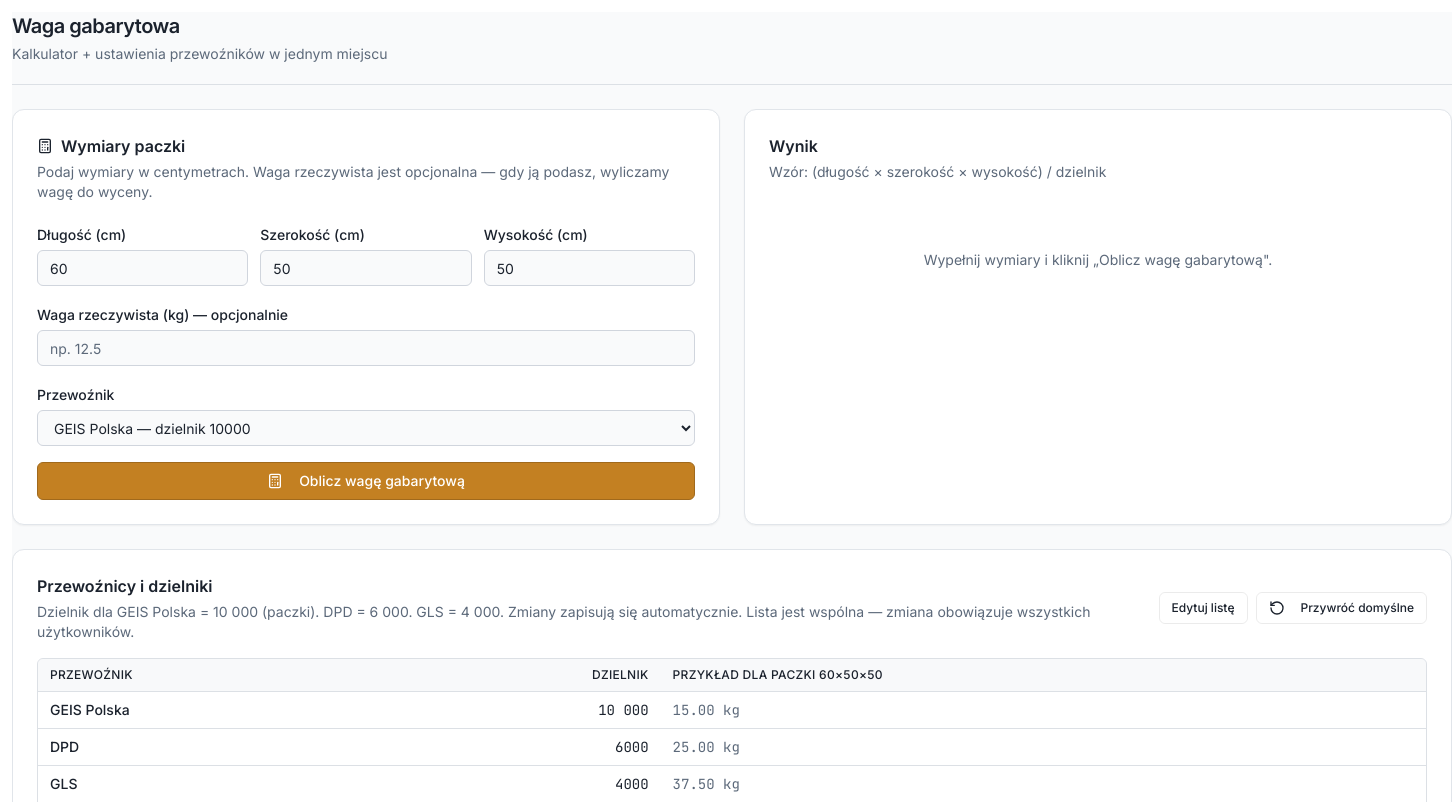
Test: widok wagi gabarytowej — kalkulator wolumetryczny › waga rzeczywista większa od gabarytowej wygrywa w wadze do wyceny
Expected: the button with test id "button-edycja-przewoznikow" is shown, [1158,592,1248,624]
In the number field with test id "input-waga-rzecz": (366, 348) [37,330,695,366], type "20"
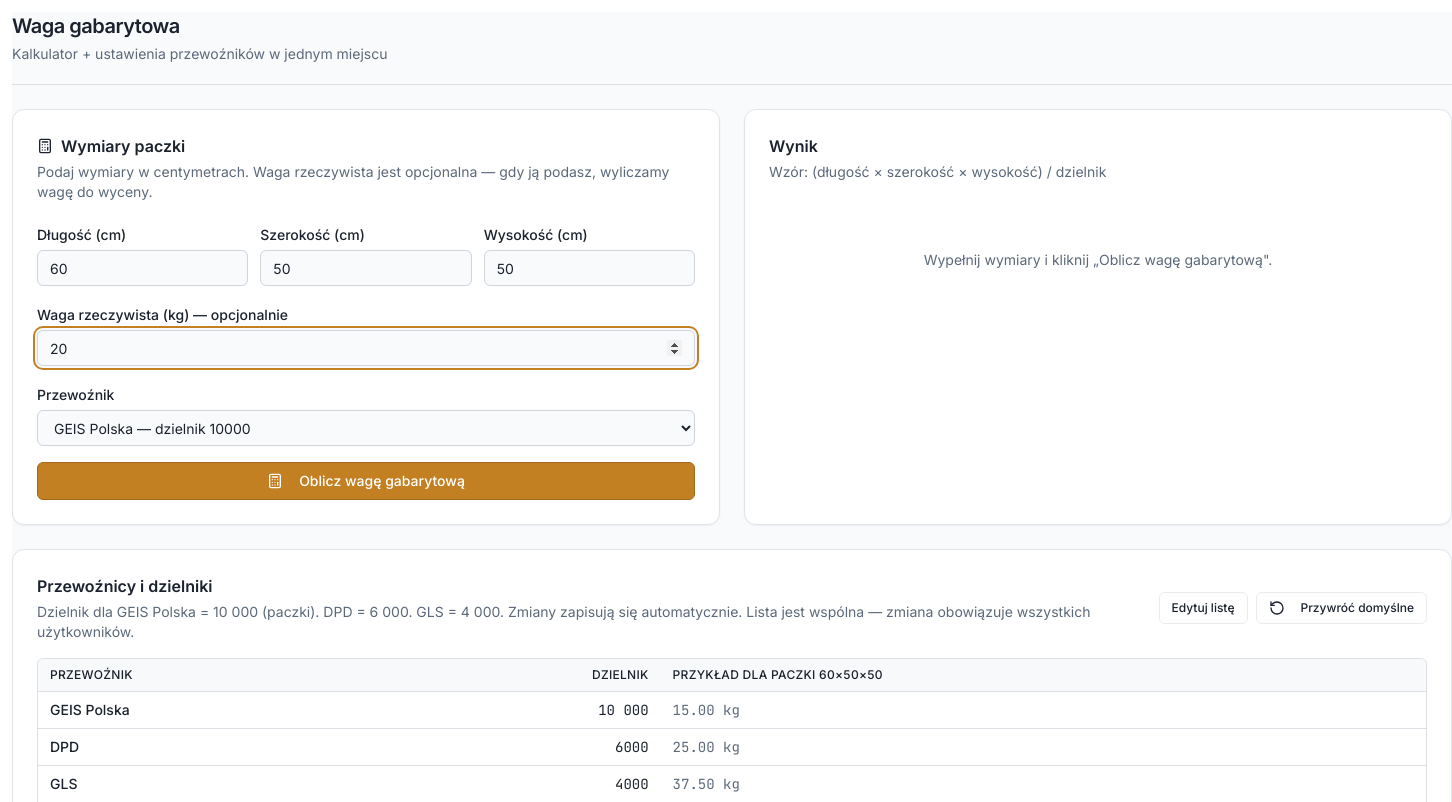
Click the button with test id "button-oblicz": (366, 481) [37,462,695,500]
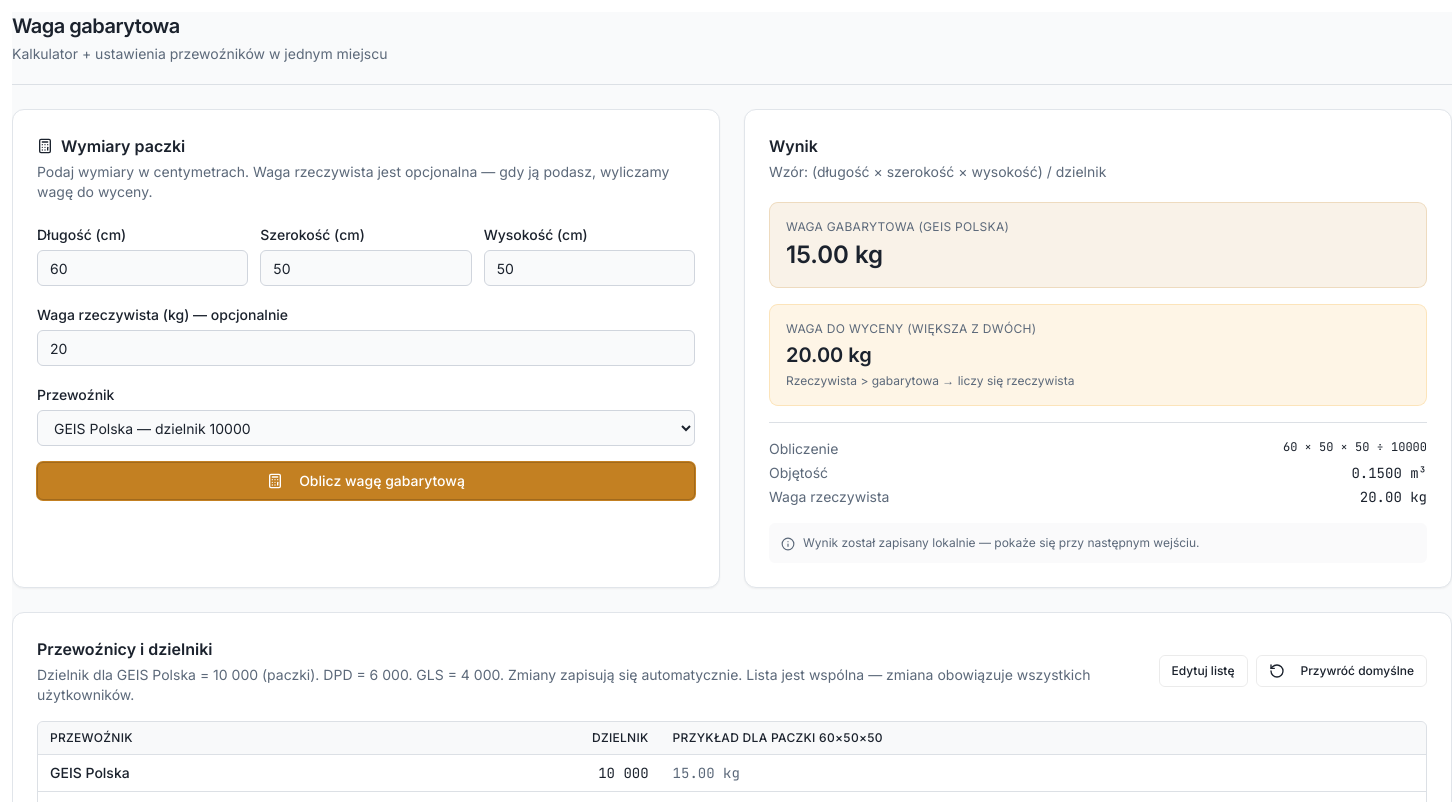
Expected: the text with test id "text-waga-do-wyceny" reads "20.00 kg", [786,343,872,367]
Expected: the text "Rzeczywista > gabarytowa → liczy się rzeczywista" is shown, [786,373,1074,388]
